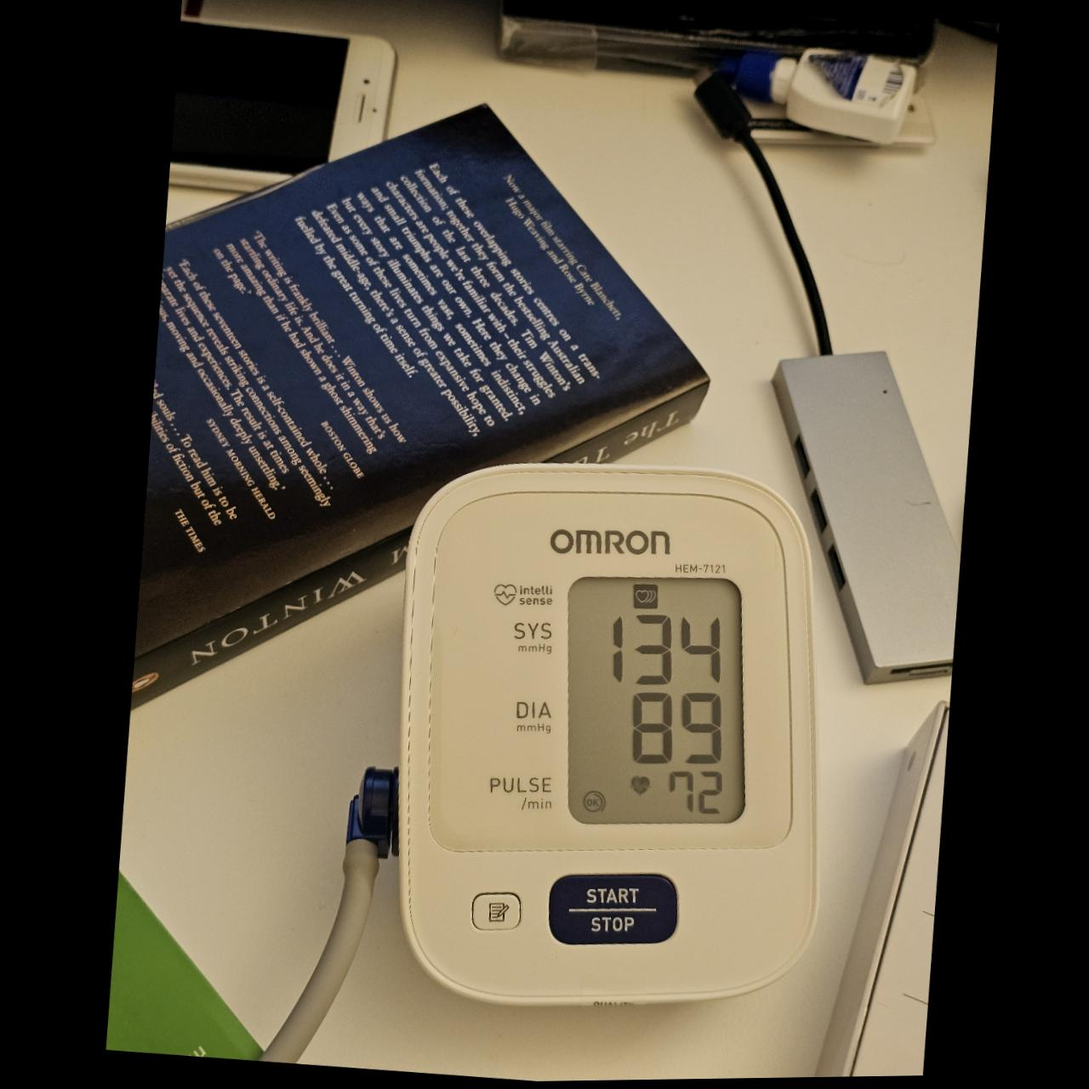lcd display: (542, 562, 771, 841)
